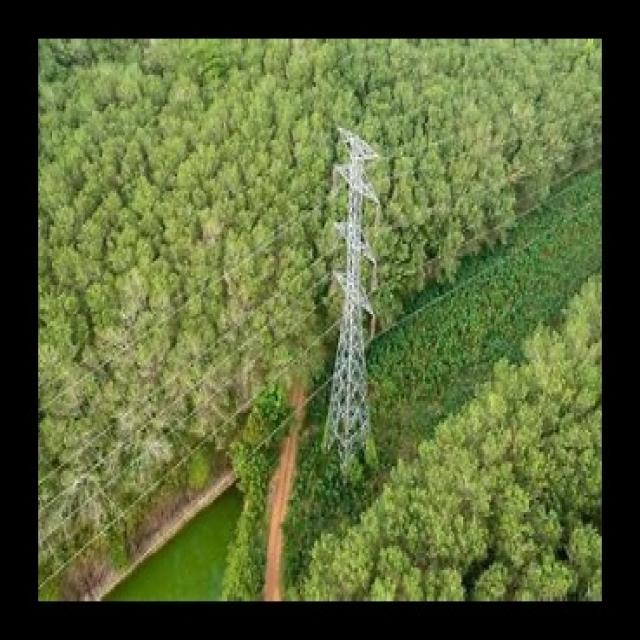utility poles: (320, 94, 391, 504)
